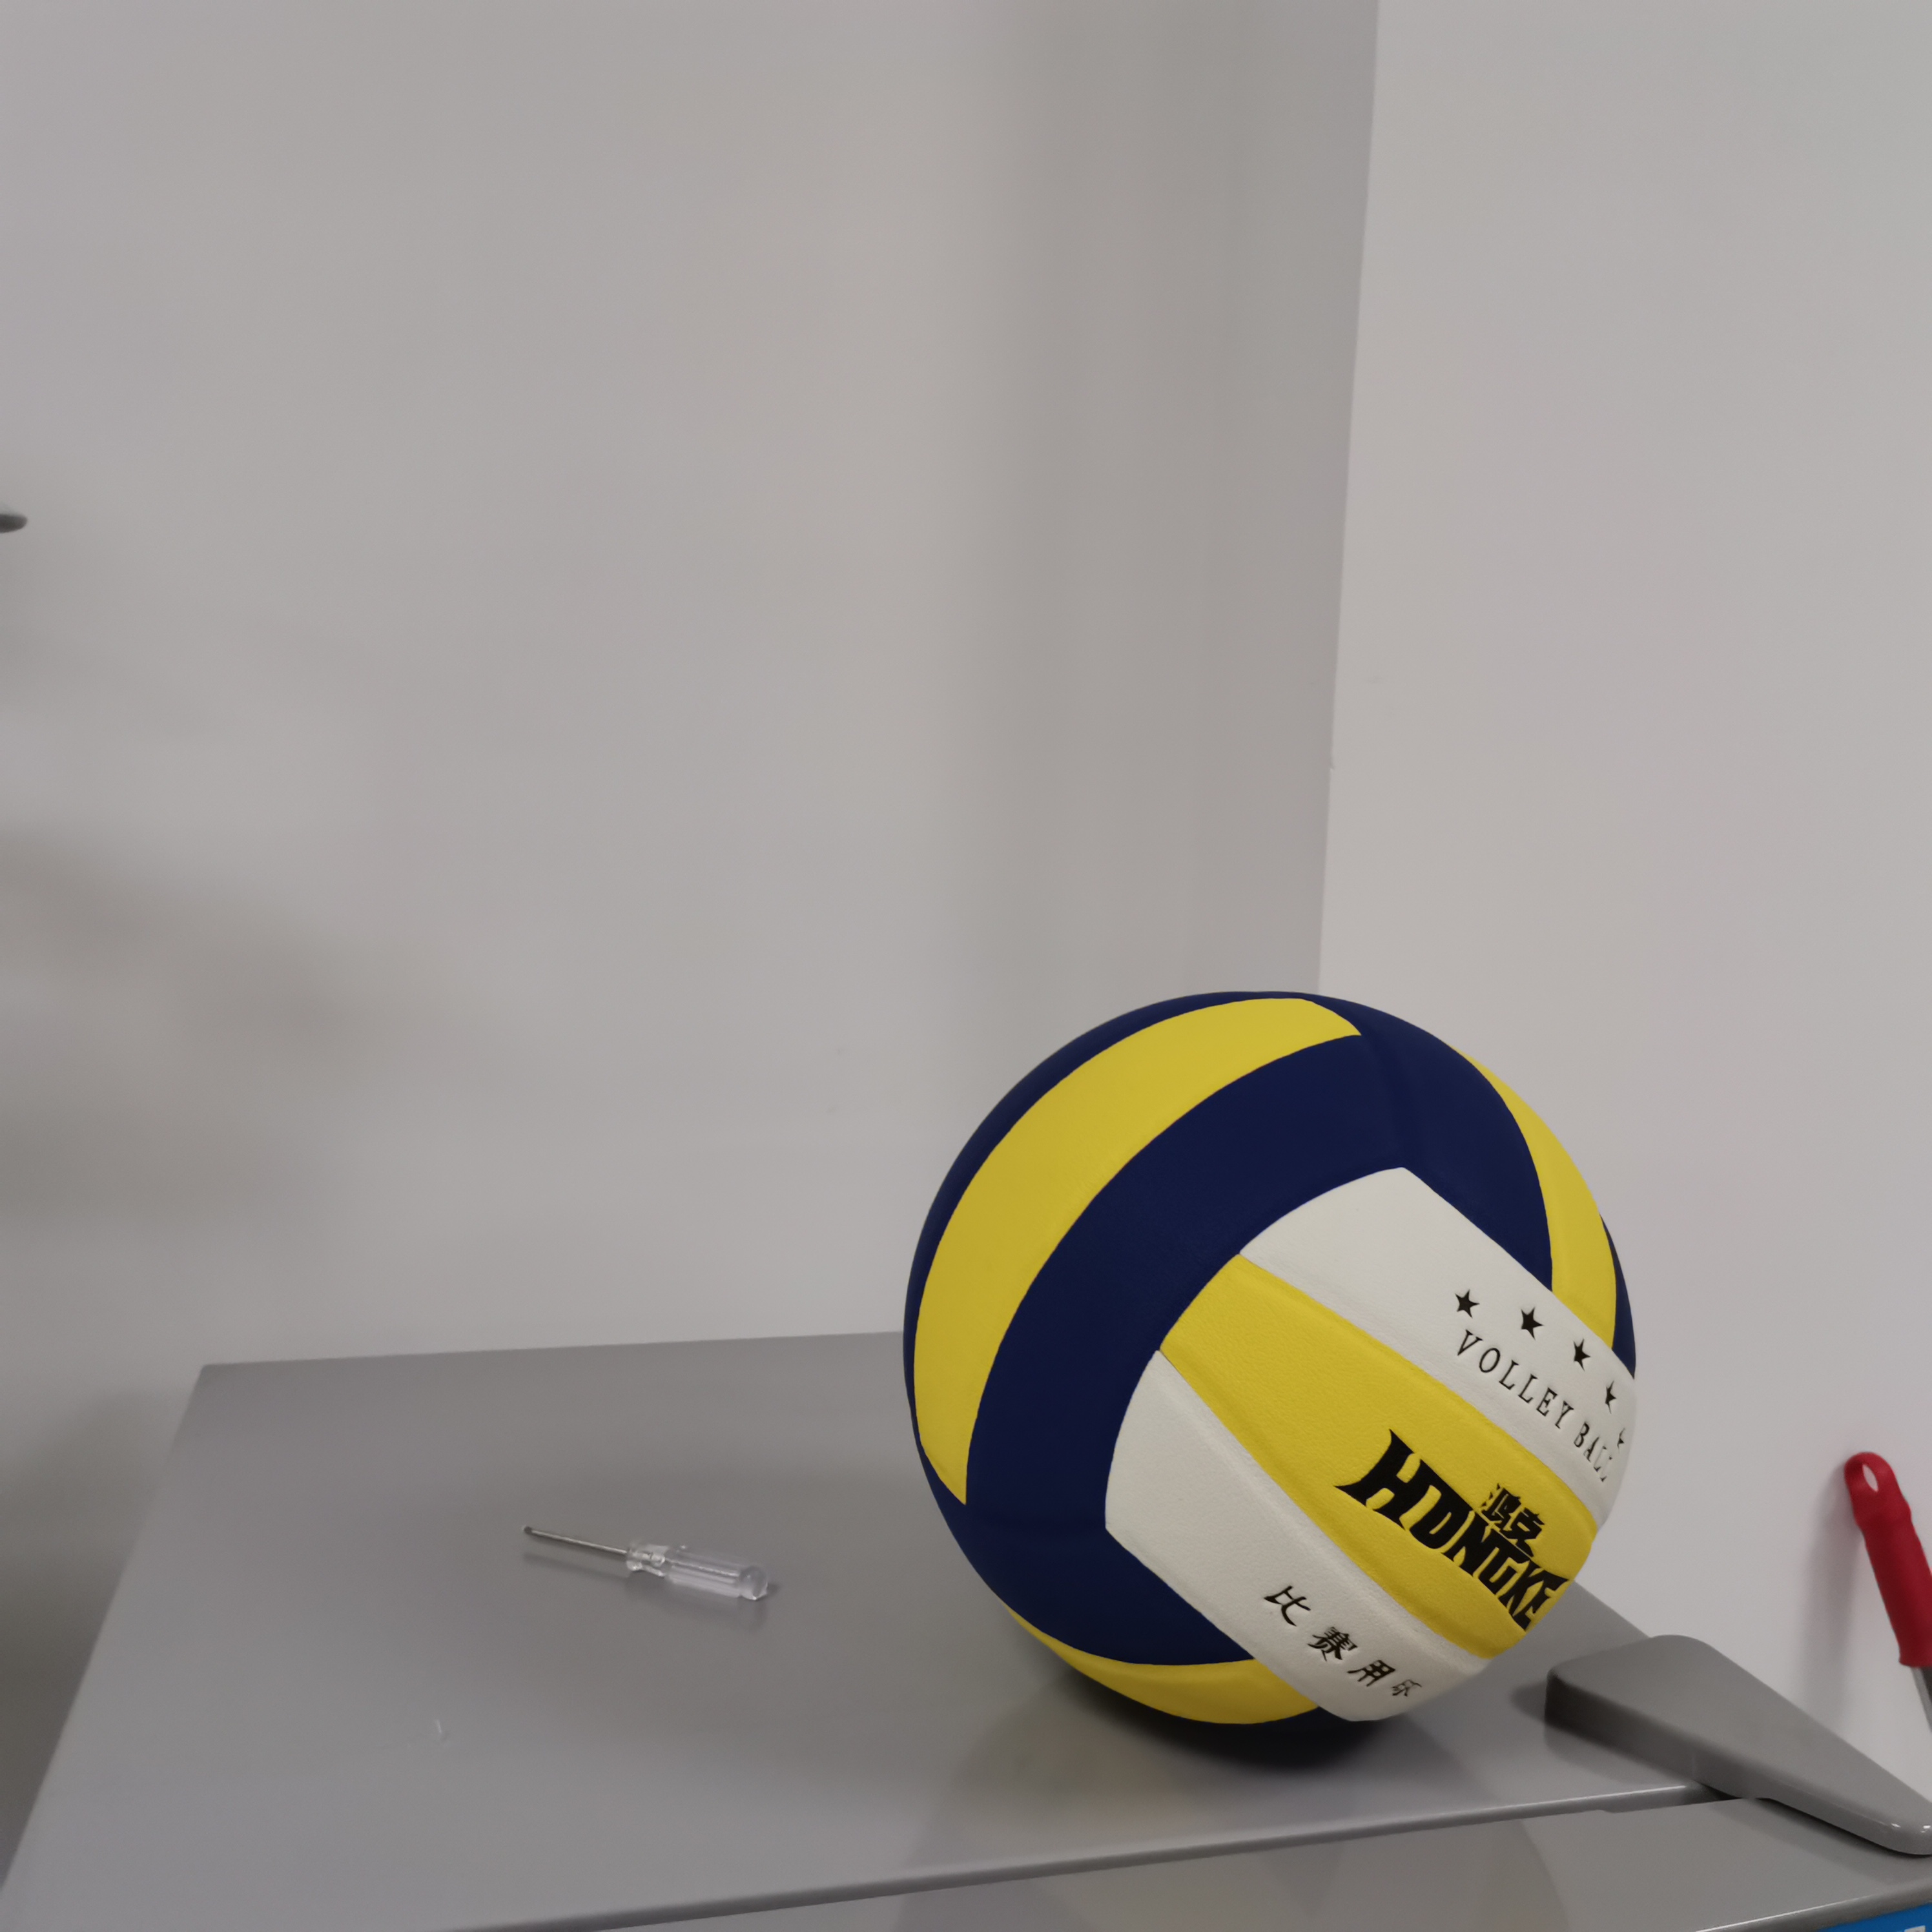volleyball: (902, 985, 1647, 1748)
